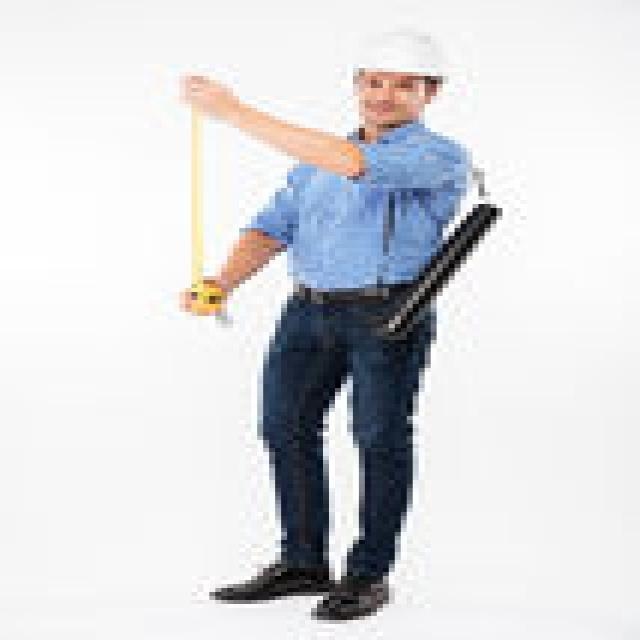helmet: (347, 27, 449, 165)
